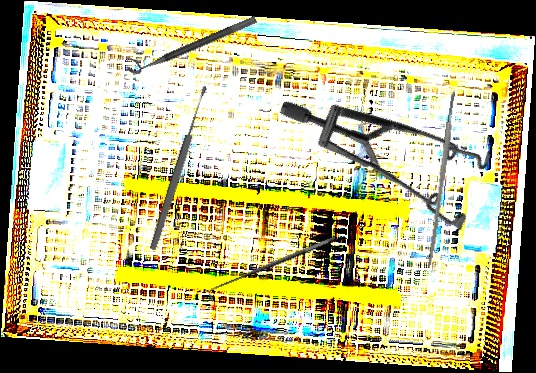Fixation Ring: (123, 5, 258, 77)
Hook Surgical: (205, 234, 341, 303)
Scalpel Handle: (426, 90, 458, 269)
Speculum: (276, 22, 518, 280)
Surgical Spoon: (147, 83, 211, 253)
